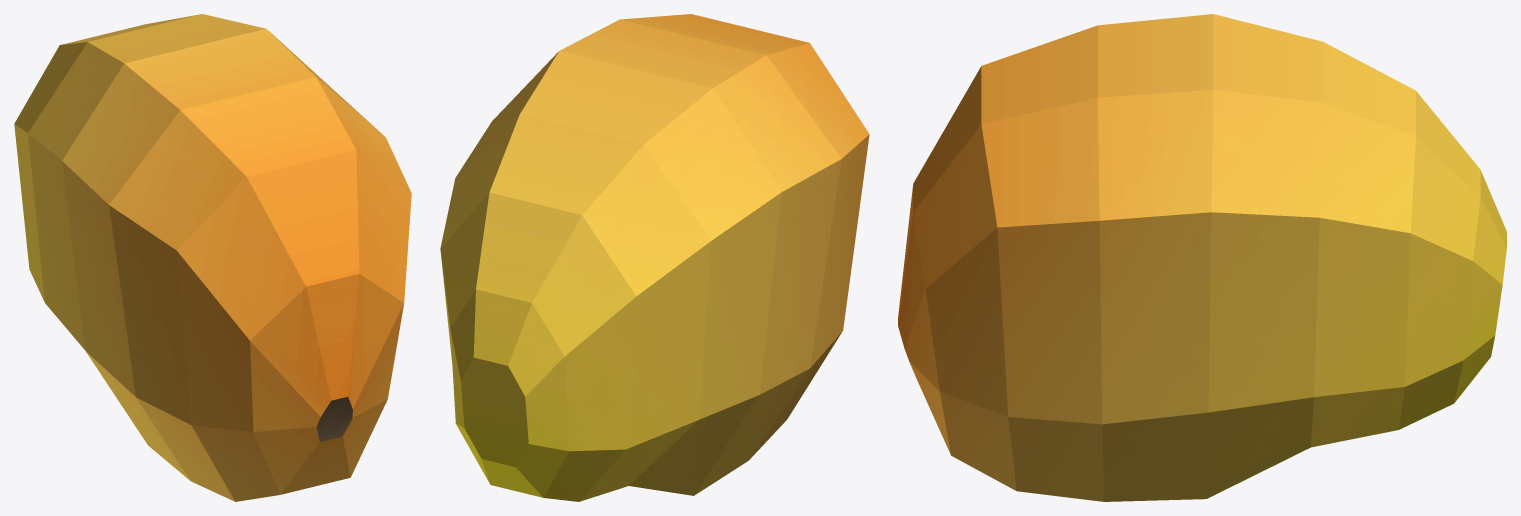
Rendered from mango.fbx.
The picture shows the model from 3 angles, left to right: view 1: azimuth 30°, elevation 25°; view 2: azimuth 150°, elevation 25°; view 3: azimuth 270°, elevation 25°; orthographic projection. The views are drawn at different scales.
Parts seen in each view (by area): view 1: Mango; view 2: Mango; view 3: Mango.
Part boxes in pixels (x1=…): Mango: x1=14, y1=14, x2=411, y2=501; Mango: x1=440, y1=14, x2=869, y2=501; Mango: x1=898, y1=14, x2=1506, y2=501.
Size of the model in its own units: 4.98 by 6.63 by 8.68.
